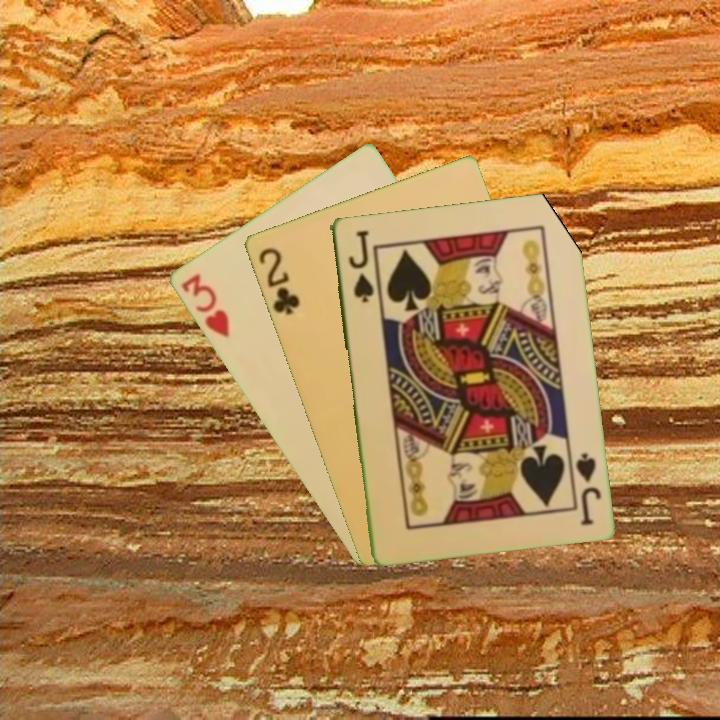2c: (254, 243, 302, 318)
3h: (177, 269, 232, 341)
Js: (572, 449, 603, 528), (345, 227, 375, 305)
